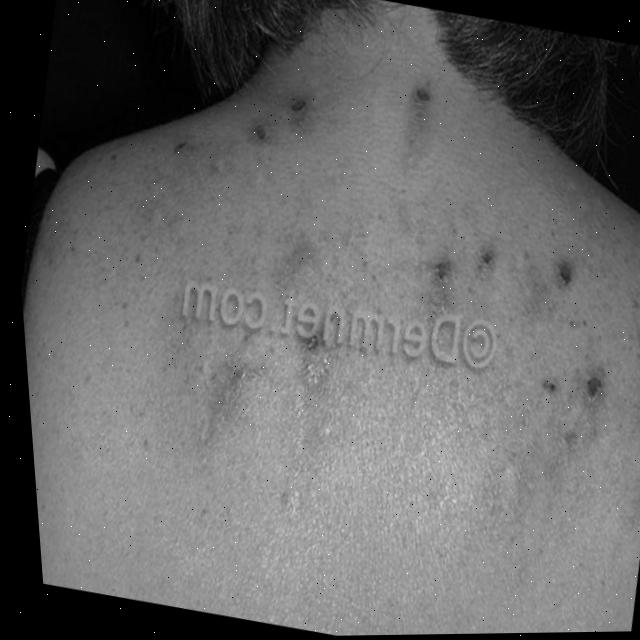Eczema: (96, 24, 640, 560)
